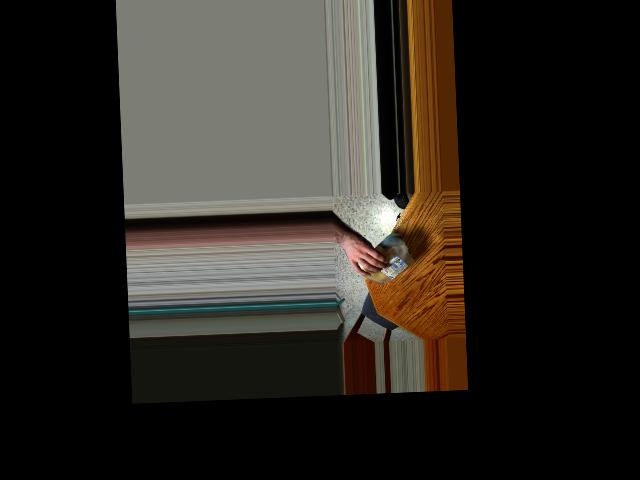cheese: (352, 233, 417, 286)
